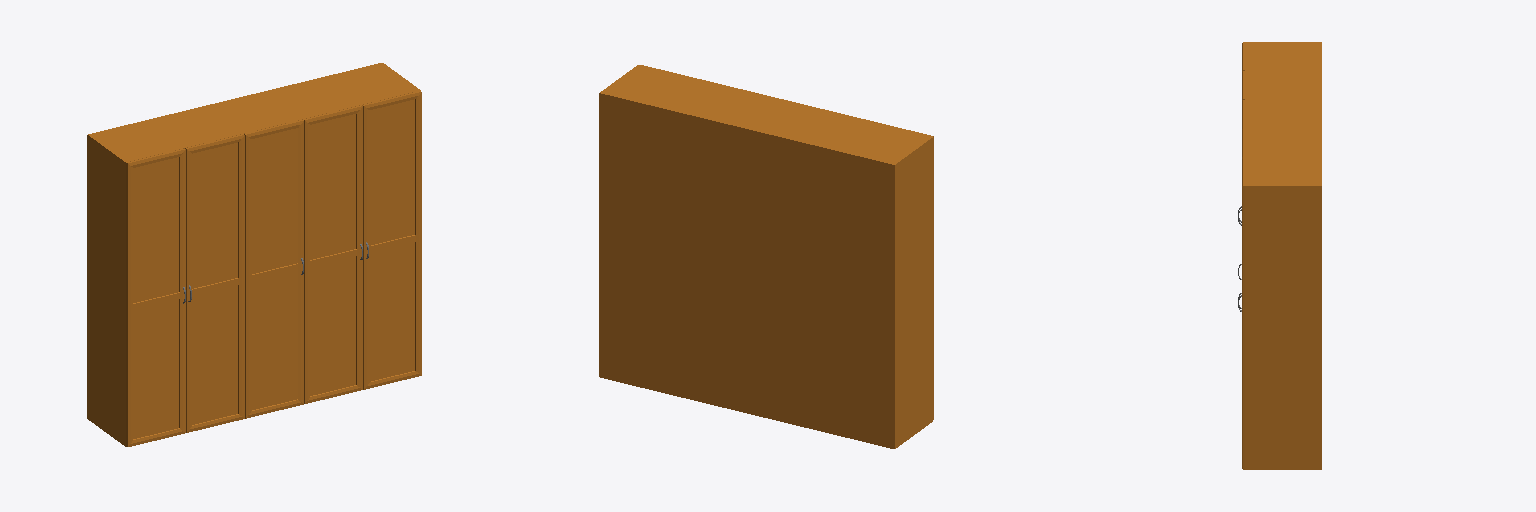
The model's file is wardrobe1.obj.
3 views of the same model, side by side, from view 1: azimuth 30°, elevation 25°; view 2: azimuth 150°, elevation 25°; view 3: azimuth 270°, elevation 25° (orthographic).
Visible parts, largest first — view 1: wardrobe_Cube.025; view 2: wardrobe_Cube.025; view 3: wardrobe_Cube.025.
Part boxes in pixels (x1,y1,x2,y2): wardrobe_Cube.025: (87,63,421,446); wardrobe_Cube.025: (599,65,933,448); wardrobe_Cube.025: (1242,42,1321,469).
Bounding box in the file's own units: 2.5 × 2.3 × 0.6121.